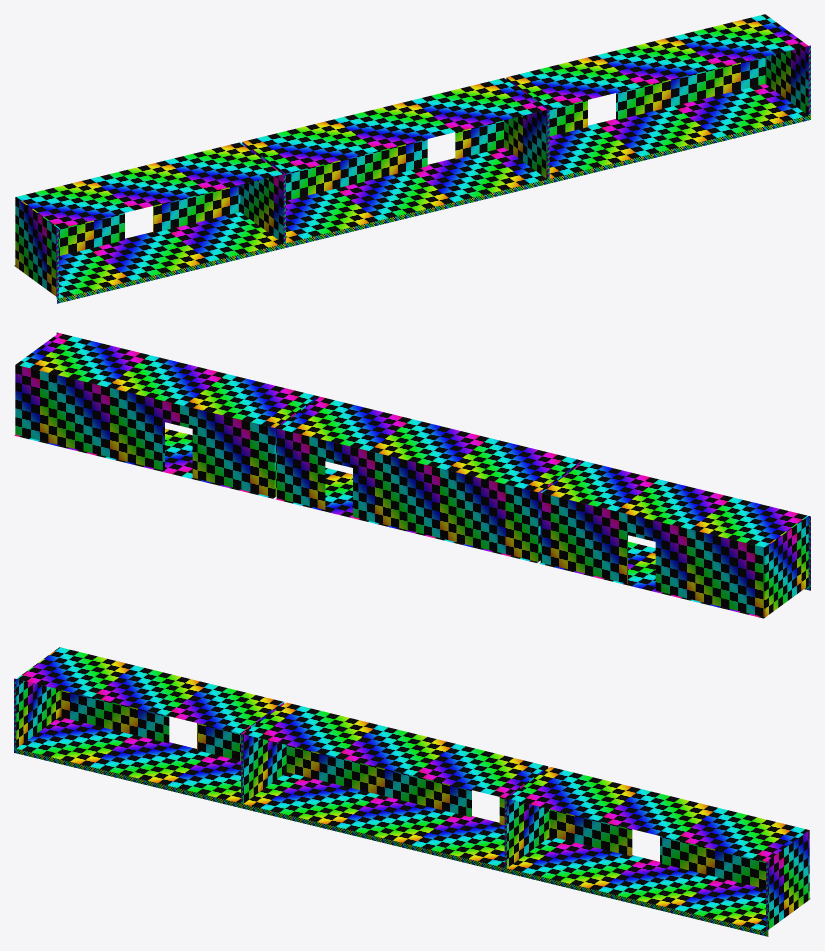
File: FrontUpper.FBX
3 renders of one model, top to bottom at view 1: azimuth 30°, elevation 25°; view 2: azimuth 150°, elevation 25°; view 3: azimuth 330°, elevation 25°, orthographic.
Parts seen in each view (by area): view 1: FrontUpperWorkCeiling, FrontUpperParentsCeiling, FrontUpperWorkFloor, FrontUpperParentsFloor, FrontUpperGrandpaCeiling, FrontUpperGrandpaWall, FrontUpperGrandpaFloor, FrontUpperWorkWall, FrontUpperParentsWall, FrontUpperBeams; view 2: FrontUpperGrandpaWall, FrontUpperWorkWall, FrontUpperParentsWall, FrontUpperWorkCeiling, FrontUpperParentsCeiling, FrontUpperGrandpaCeiling, FrontUpperWorkFloor, FrontUpperParentsFloor, FrontUpperGrandpaFloor; view 3: FrontUpperWorkCeiling, FrontUpperParentsCeiling, FrontUpperWorkFloor, FrontUpperParentsWall, FrontUpperParentsFloor, FrontUpperGrandpaCeiling, FrontUpperGrandpaFloor, FrontUpperWorkWall, FrontUpperGrandpaWall, FrontUpperBeams.
Part boxes in pixels (x1,y1,x2,y2): FrontUpperWorkCeiling: (243, 78, 546, 173); FrontUpperParentsCeiling: (506, 14, 808, 108); FrontUpperWorkFloor: (286, 147, 546, 242); FrontUpperParentsFloor: (549, 84, 808, 178); FrontUpperGrandpaCeiling: (16, 142, 282, 228); FrontUpperGrandpaWall: (15, 174, 283, 296); FrontUpperGrandpaFloor: (14, 212, 283, 298); FrontUpperWorkWall: (242, 110, 547, 200); FrontUpperParentsWall: (506, 46, 808, 136); FrontUpperBeams: (56, 45, 810, 303); FrontUpperGrandpaWall: (540, 493, 808, 617); FrontUpperWorkWall: (276, 428, 581, 561); FrontUpperParentsWall: (15, 365, 317, 497); FrontUpperWorkCeiling: (277, 396, 581, 492); FrontUpperParentsCeiling: (16, 333, 317, 427); FrontUpperGrandpaCeiling: (541, 461, 807, 547); FrontUpperWorkFloor: (275, 467, 537, 562); FrontUpperParentsFloor: (14, 428, 274, 498); FrontUpperGrandpaFloor: (539, 541, 764, 618); FrontUpperWorkCeiling: (243, 702, 547, 797); FrontUpperParentsCeiling: (507, 767, 808, 861); FrontUpperWorkFloor: (243, 772, 504, 867); FrontUpperParentsWall: (507, 798, 809, 929); FrontUpperParentsFloor: (507, 836, 810, 931); FrontUpperGrandpaCeiling: (16, 647, 283, 733); FrontUpperGrandpaFloor: (16, 717, 240, 803); FrontUpperWorkWall: (243, 734, 548, 825); FrontUpperGrandpaWall: (16, 679, 284, 760); FrontUpperBeams: (14, 678, 768, 936).
Bounding box in the file's own units: 1336 × 126 × 138.
